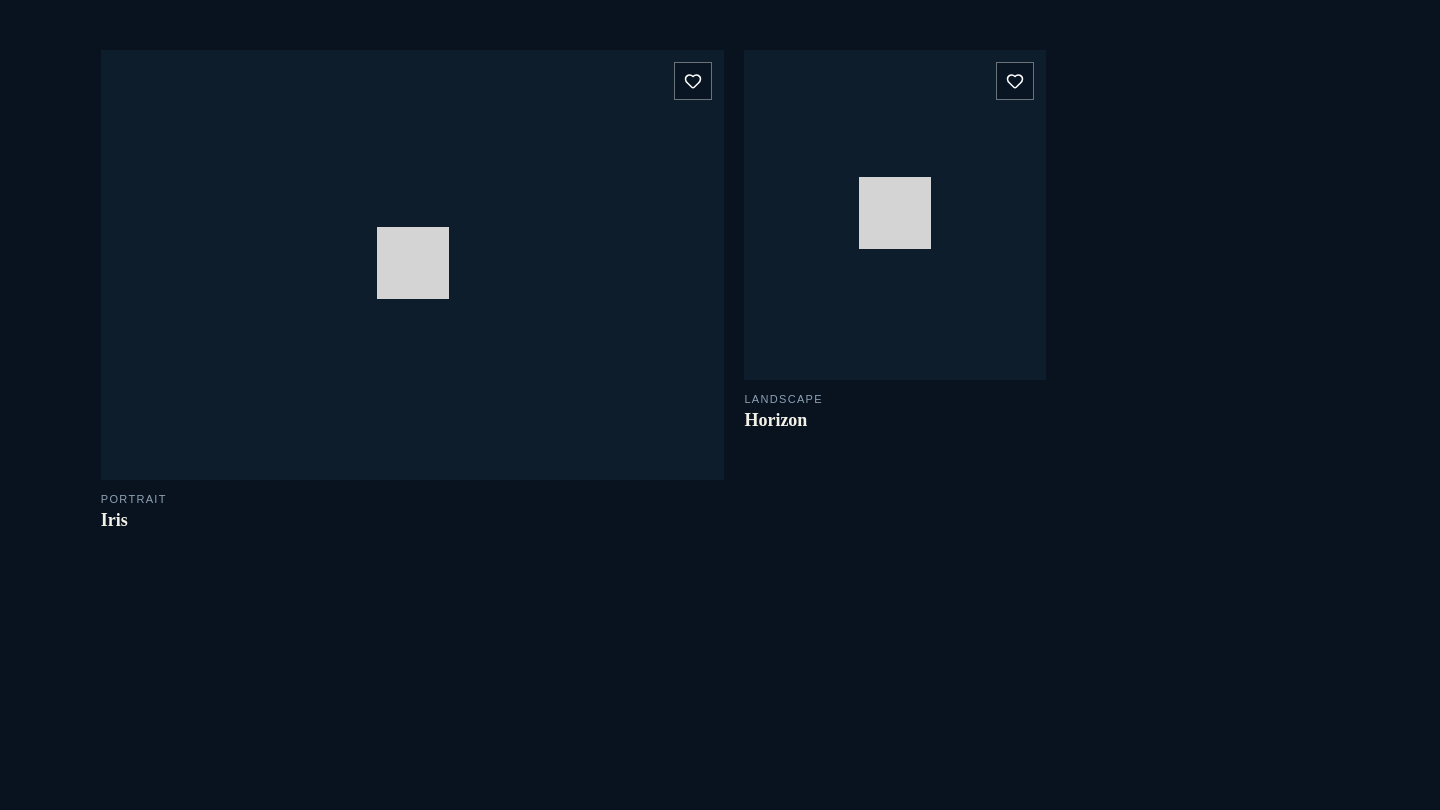
it: ArtGallery › renders artwork, opens a detail dialog, and closes it
expect the text "Portrait" is shown: met, box 101,493 -> 167,505
Click the 1st button named "Iris": coordinates (413, 265) 101,50 -> 724,480
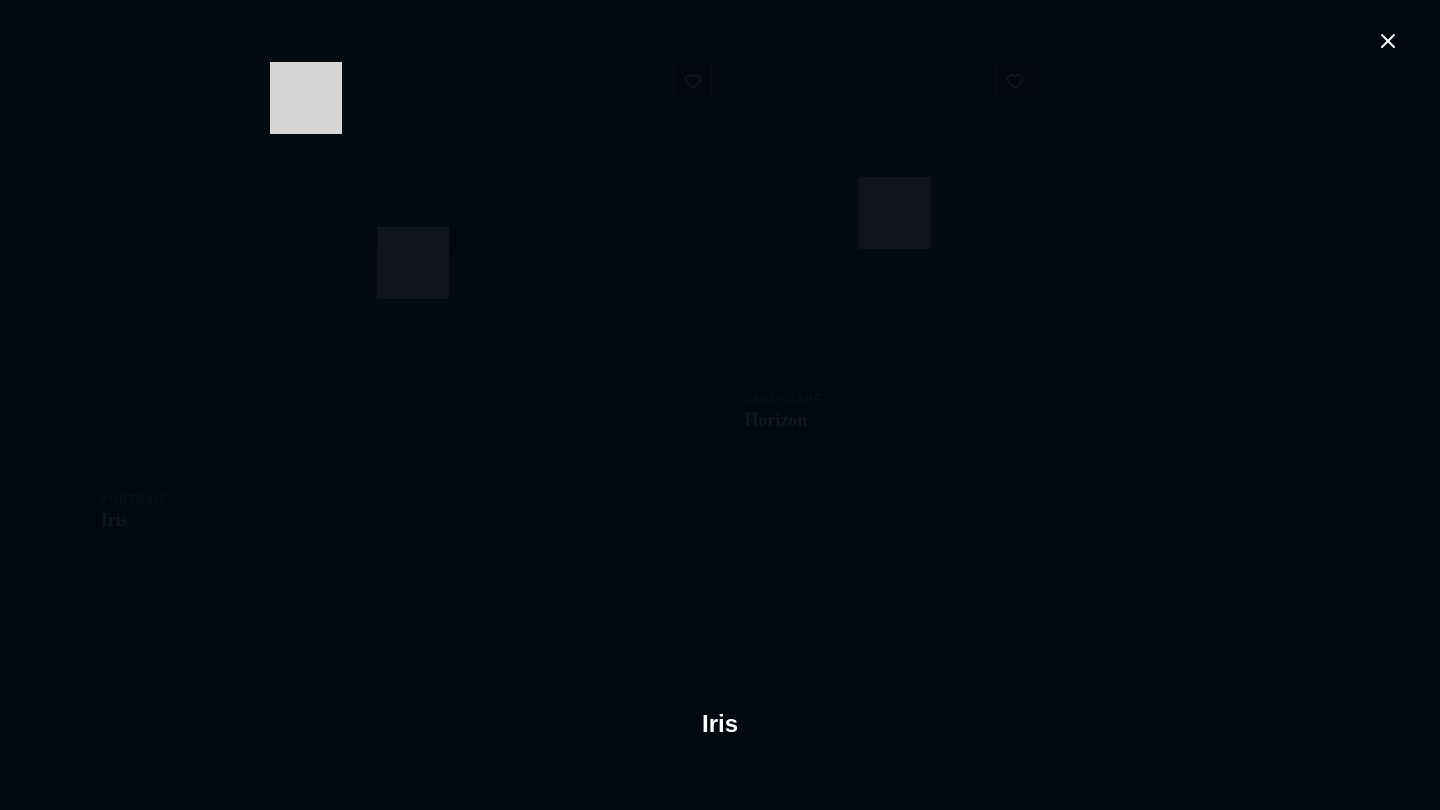
expect the dialog "Iris" is shown: met
Click the button named "Close artwork": coordinates (1388, 43) 1370,28 -> 1406,58
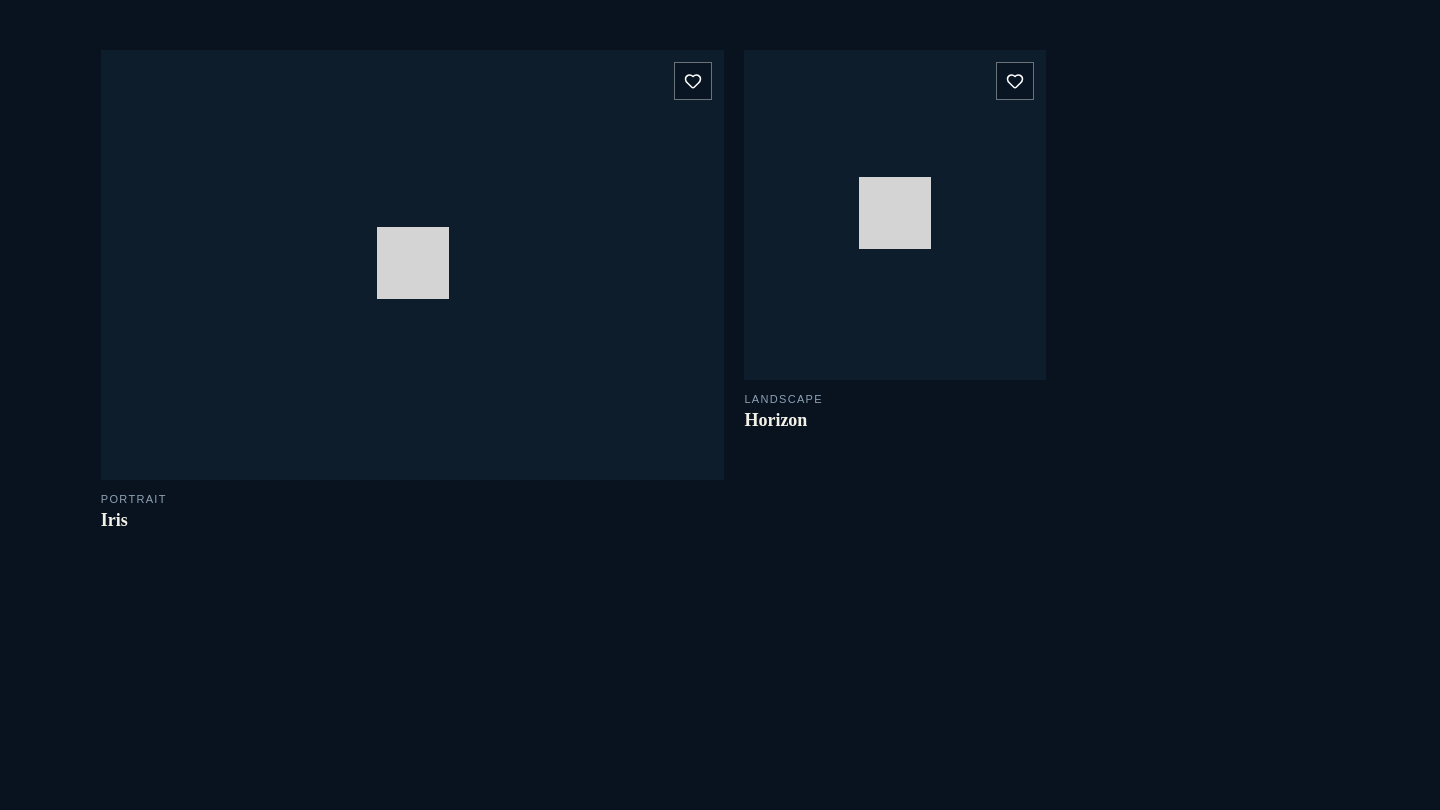
expect the dialog is gone: met
